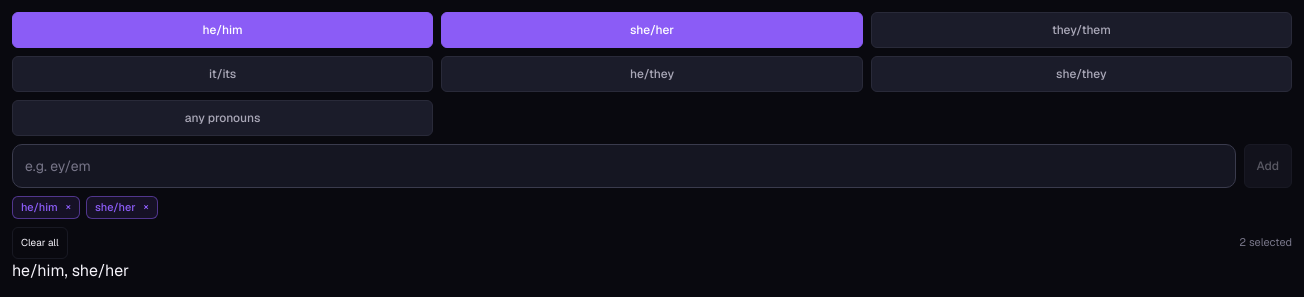
PronounsPicker › removes an individual pronoun
The width and height of the screenshot is (1304, 297).
Step 1. Click the button named "Remove he/him" → x=68, y=206, box [66,198,71,214]
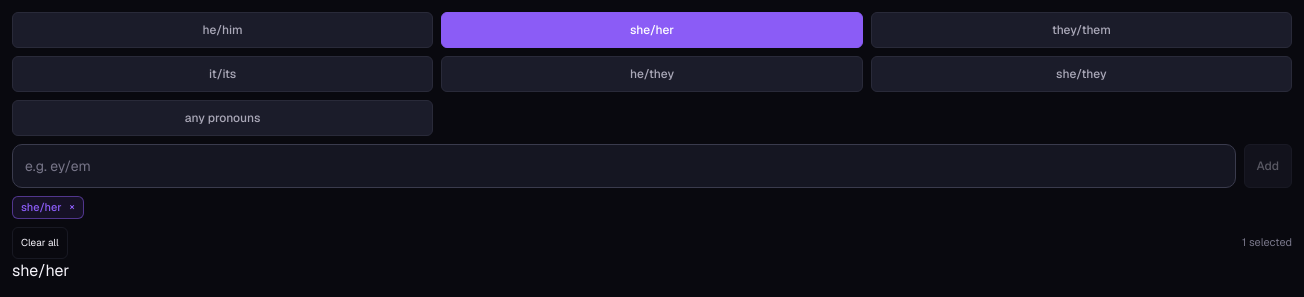
Result: the text with test id "serialized" reads "she/her" at [12,260,69,280]
